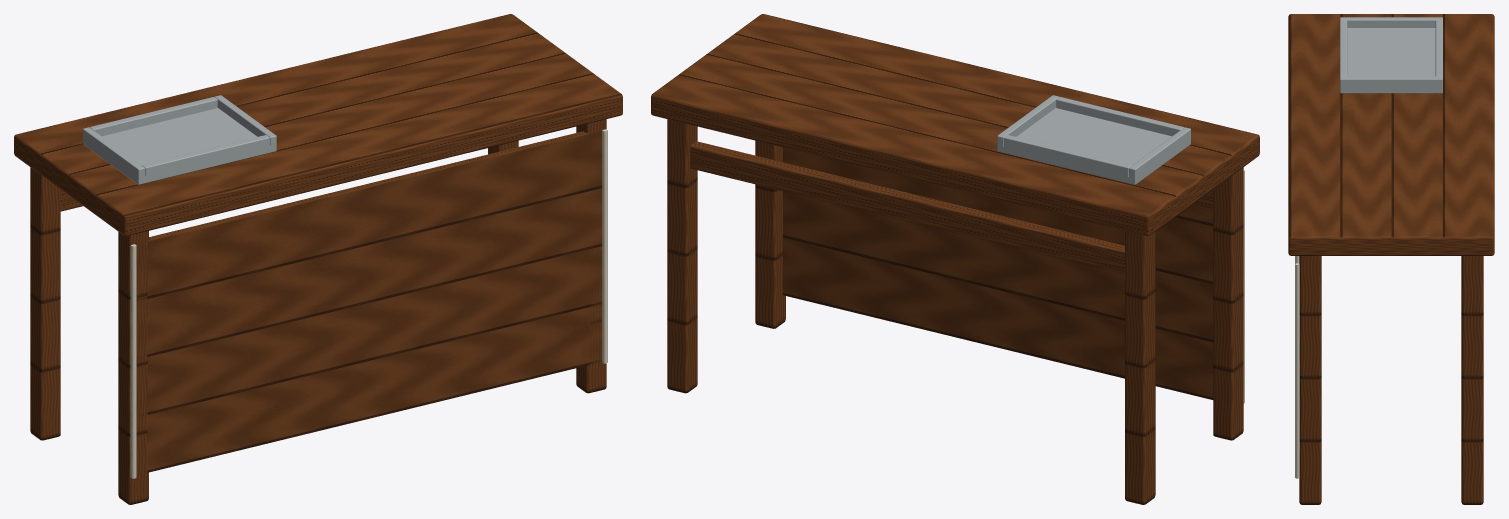
3 views of the same model, side by side, from view 1: azimuth 30°, elevation 25°; view 2: azimuth 150°, elevation 25°; view 3: azimuth 270°, elevation 25° (orthographic). The views are drawn at different scales.
Visible parts, largest first — view 1: barter-counter; view 2: barter-counter; view 3: barter-counter.
Boxes of the visible parts, x1=… form: barter-counter: x1=14, y1=14, x2=622, y2=504; barter-counter: x1=651, y1=14, x2=1259, y2=504; barter-counter: x1=1288, y1=14, x2=1494, y2=504.
Bounding box in the file's own units: 1.8 × 1.08 × 0.6999.
3 materials, 1 textured.
